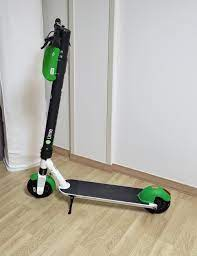kick_board: (28, 17, 169, 210)
kick_body: (66, 182, 143, 205)
kick_handler: (42, 19, 70, 48)
kick_neck: (40, 51, 67, 160)
kick_wheel: (28, 173, 53, 198), (147, 186, 170, 212)
